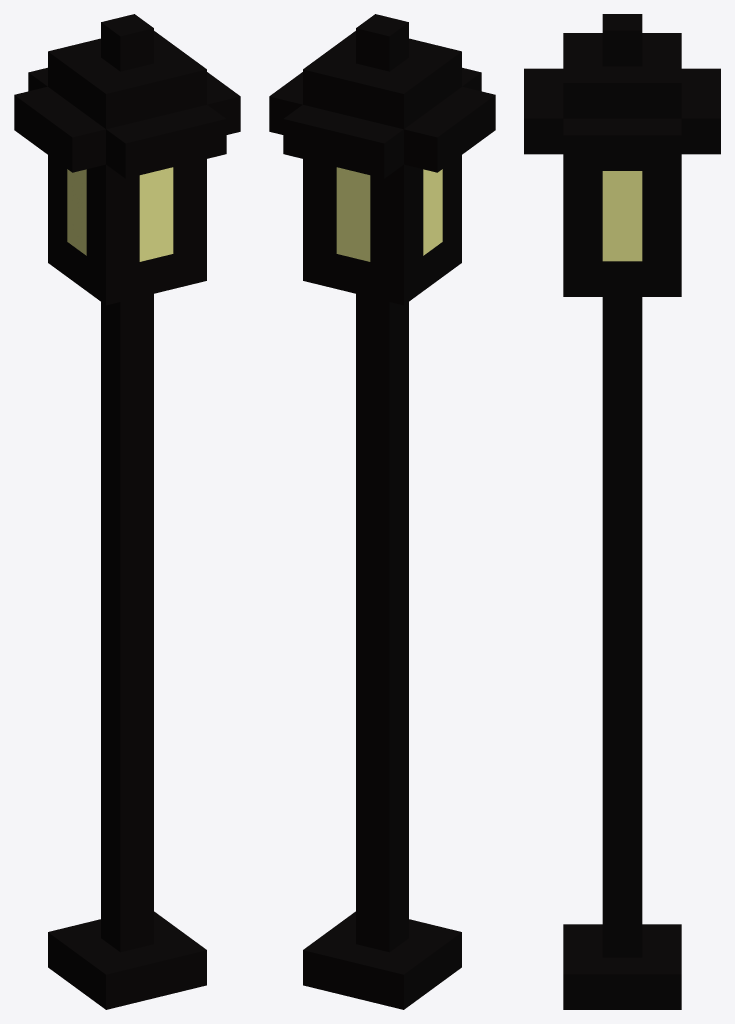
The model's file is Streetlight_obj.obj.
The picture shows the model from 3 angles, left to right: view 1: azimuth 30°, elevation 25°; view 2: azimuth 150°, elevation 25°; view 3: azimuth 270°, elevation 25°; orthographic projection.
Parts seen in each view (by area): view 1: 立方体.003; view 2: 立方体.003; view 3: 立方体.003.
Boxes of the visible parts, x1,y1,x2,y2 form: 立方体.003: [14, 14, 240, 1009]; 立方体.003: [269, 14, 495, 1009]; 立方体.003: [524, 14, 720, 1009].
Bounding box in the file's own units: 5 × 27 × 5.
